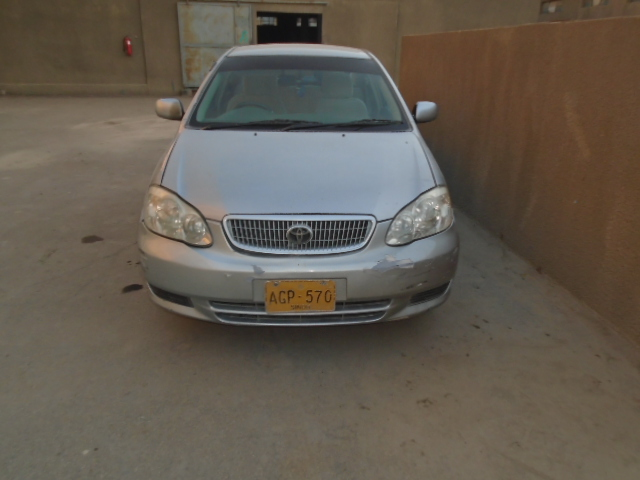Number Plate (Car): (266, 282, 334, 311)
